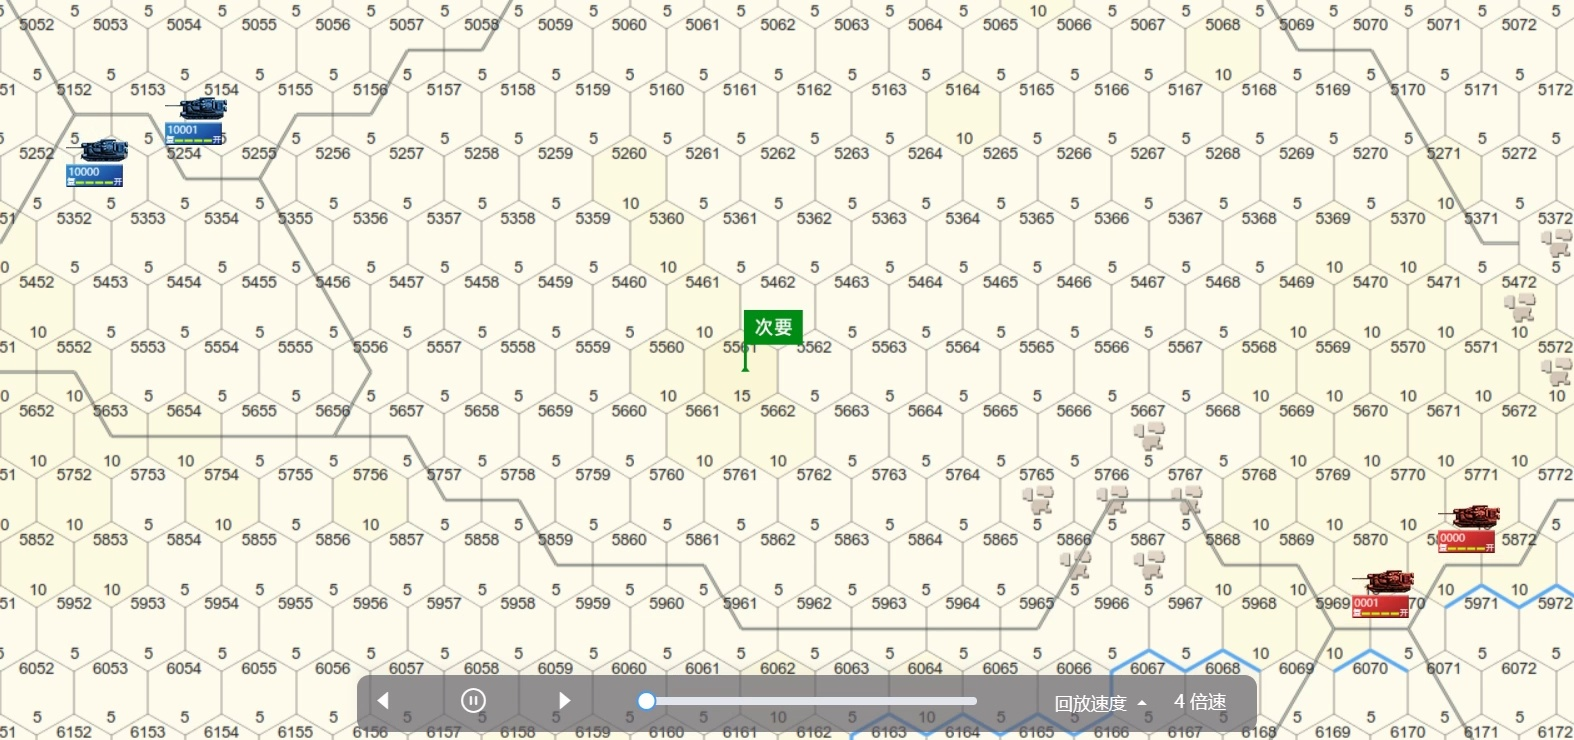blue_tank: (163, 97, 232, 153), (74, 140, 126, 197)
red_tank: (1354, 571, 1418, 623), (1441, 505, 1499, 562)
